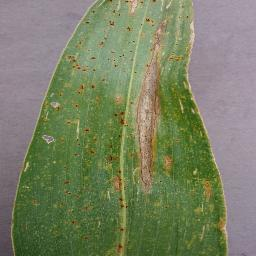Corn_Blight: (171, 0, 203, 106), (135, 17, 171, 107), (133, 106, 162, 192), (108, 134, 128, 254), (188, 207, 216, 245), (200, 122, 219, 174), (216, 195, 230, 256), (86, 2, 164, 12), (67, 50, 101, 71), (111, 91, 128, 131), (164, 126, 187, 150), (199, 177, 216, 206), (161, 152, 177, 177), (105, 50, 126, 67), (72, 82, 100, 92), (61, 115, 79, 129), (34, 134, 59, 144), (177, 107, 206, 115), (22, 154, 33, 174), (55, 80, 67, 97), (99, 34, 113, 47), (80, 125, 95, 136), (46, 100, 64, 109), (104, 20, 119, 30), (27, 199, 45, 207), (79, 19, 96, 27), (60, 177, 71, 187), (80, 204, 94, 211), (88, 146, 96, 158), (70, 101, 83, 108), (75, 35, 82, 48), (125, 23, 134, 33), (67, 218, 76, 228), (189, 165, 198, 174), (64, 192, 76, 197)
